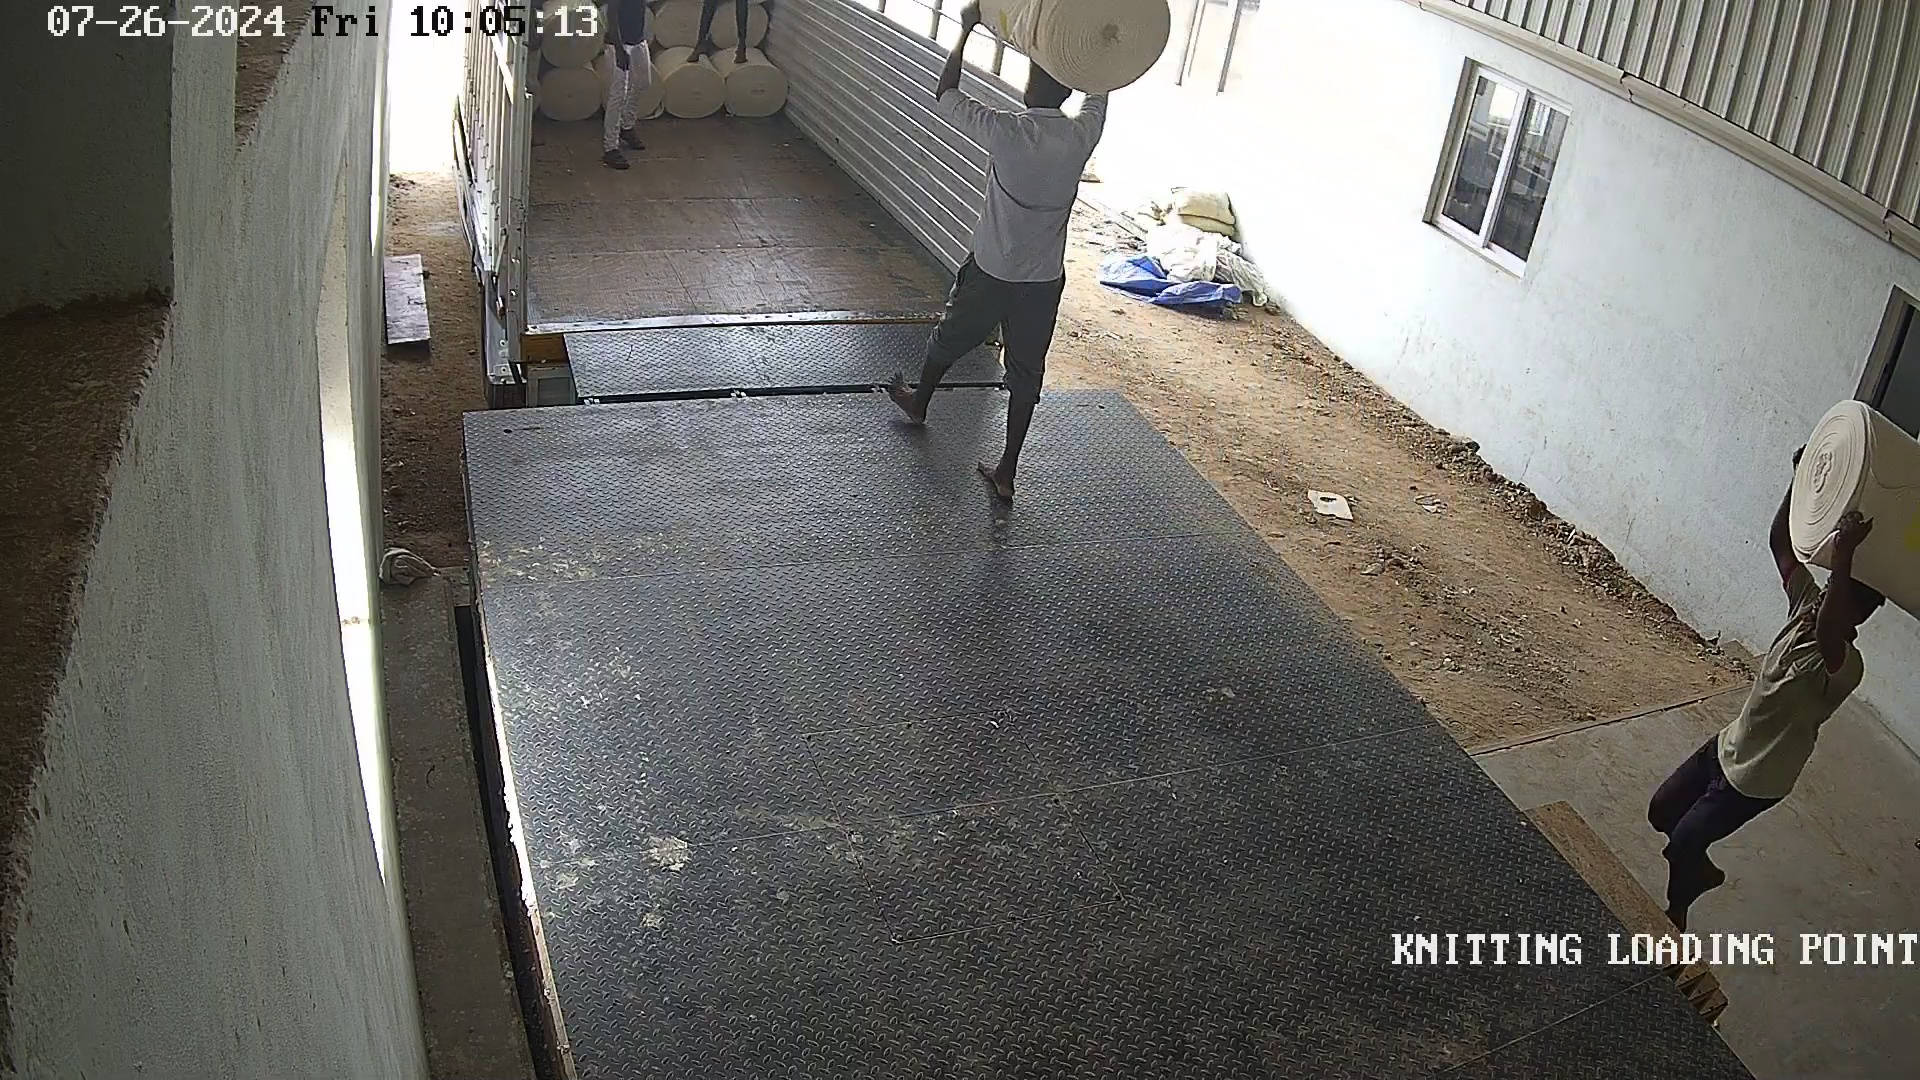bag: (944, 3, 1185, 98)
